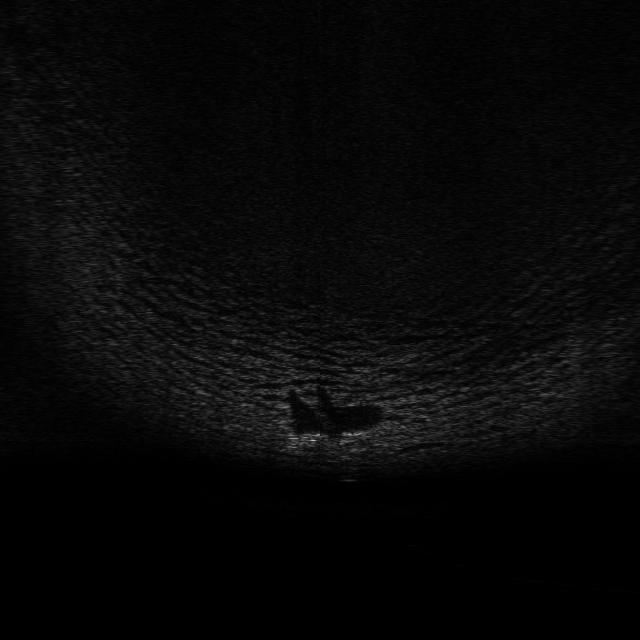plane: (283, 427, 367, 453)
